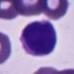L: (19, 20, 57, 57)
